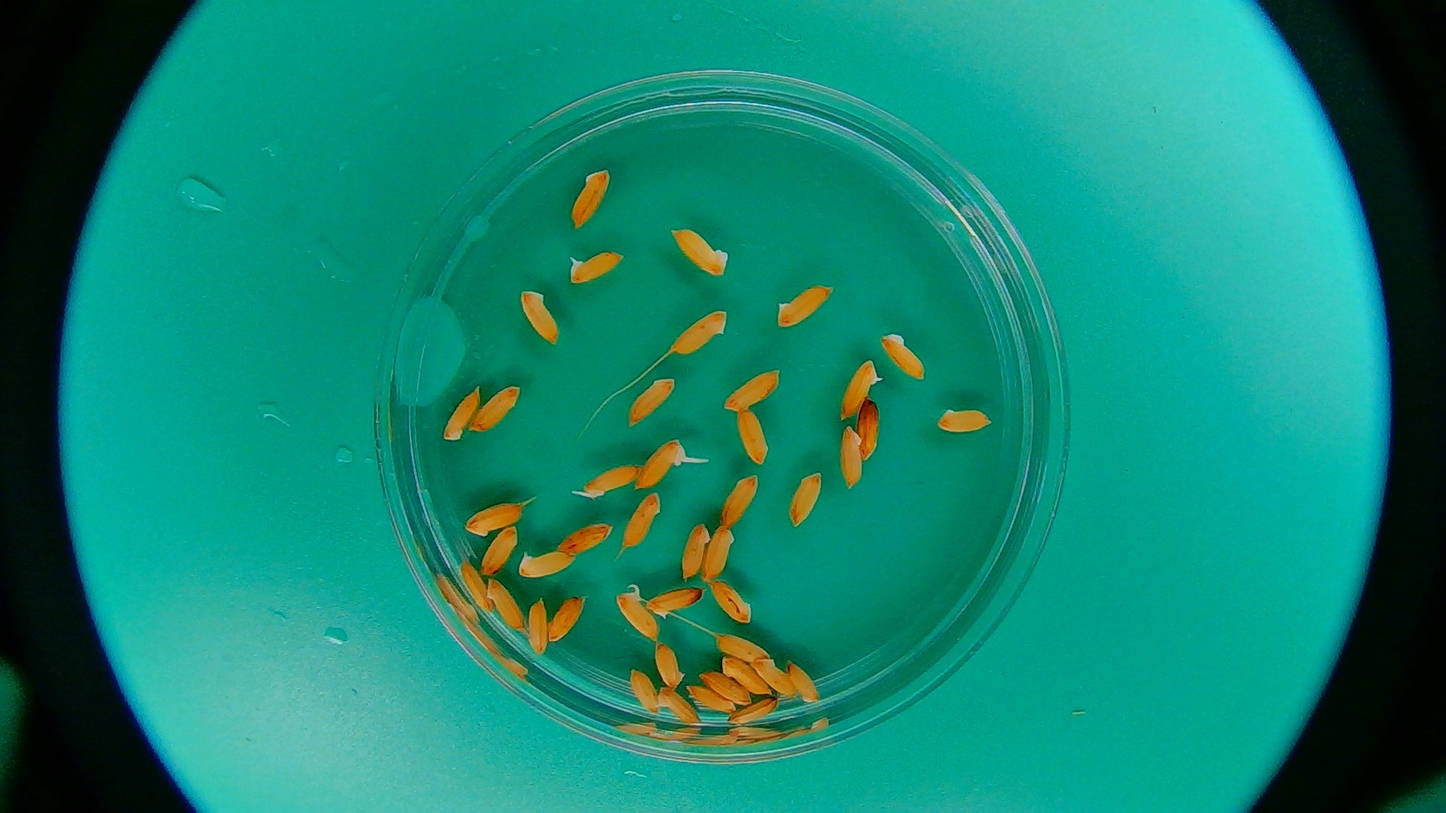no: (460, 485, 541, 540), (770, 266, 835, 332), (666, 221, 731, 286), (565, 163, 619, 235), (721, 362, 782, 422), (465, 379, 526, 439), (878, 323, 933, 388), (834, 356, 889, 421), (668, 304, 731, 360), (621, 372, 684, 428), (519, 283, 568, 350), (437, 379, 486, 446), (484, 573, 533, 638), (545, 592, 598, 647), (828, 423, 870, 492), (710, 473, 762, 528), (729, 401, 770, 468), (642, 582, 707, 623), (512, 545, 582, 583), (706, 572, 752, 629), (932, 403, 1002, 440), (720, 653, 775, 699), (520, 594, 557, 662), (622, 662, 663, 721), (551, 518, 614, 555), (787, 468, 825, 529), (645, 641, 686, 695), (660, 682, 701, 736), (695, 670, 751, 707), (723, 695, 779, 732), (753, 656, 797, 703), (676, 523, 711, 582), (700, 525, 735, 583), (684, 683, 738, 718)
yes: (630, 438, 686, 494), (617, 590, 661, 644), (585, 461, 638, 501), (567, 248, 622, 285)
